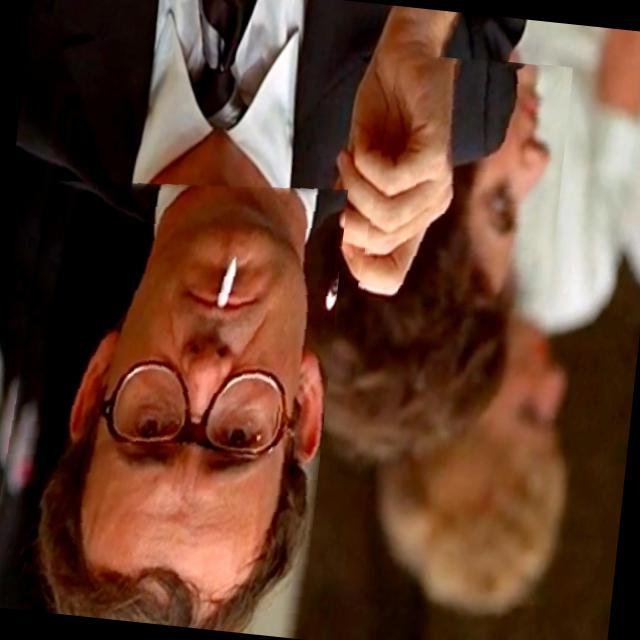cigarette: (187, 231, 226, 311)
